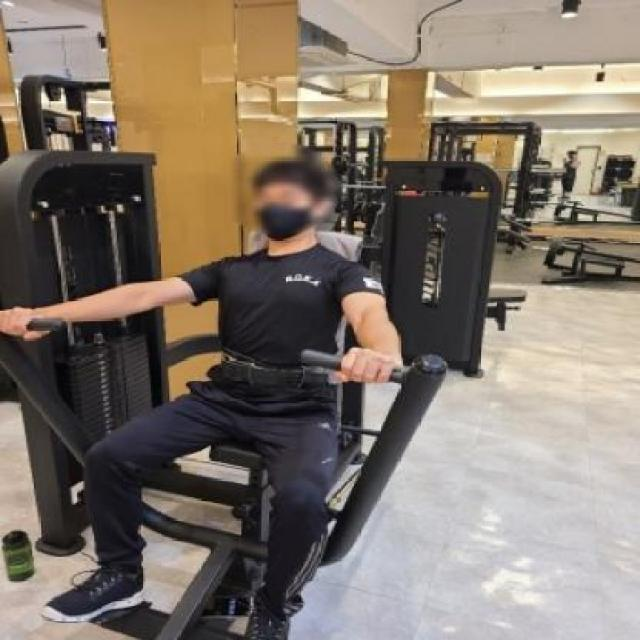Chest Press machine: (8, 115, 520, 631)
